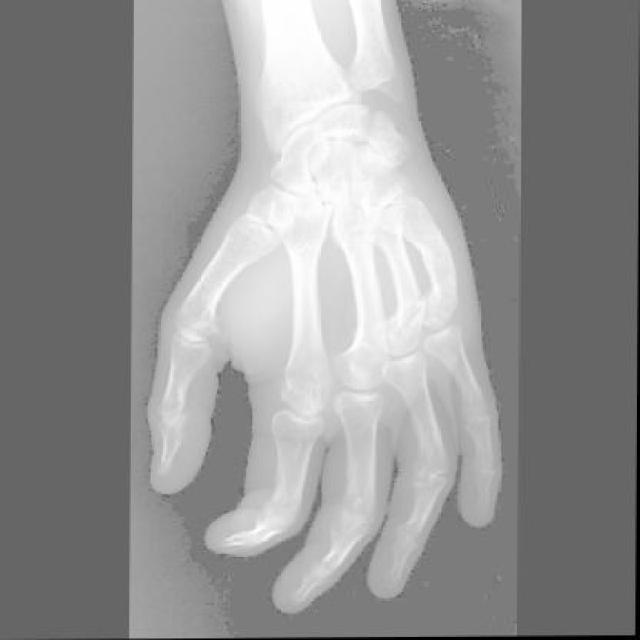Fracture: (419, 278, 461, 325), (393, 285, 427, 335)
